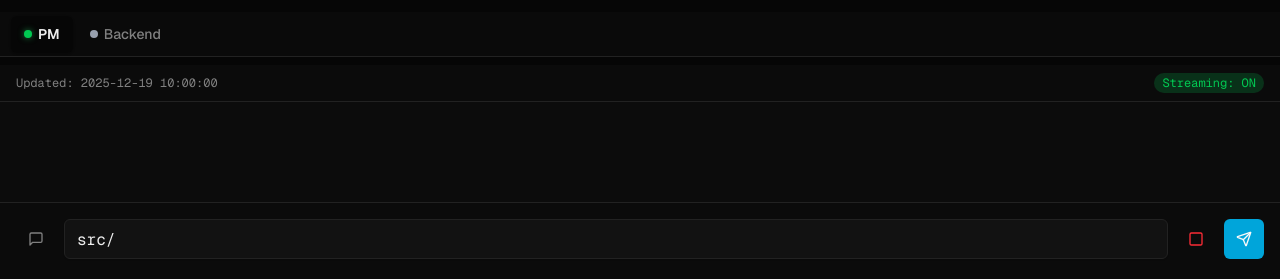
Scenario: TerminalPanel › Path API Integration (Terminal Mode) › should show loading indicator while fetching paths
# Switch to Terminal mode
Click the button named "Switch to Terminal mode" at (36, 239), box [16,219,56,259]
Wait 250 ms
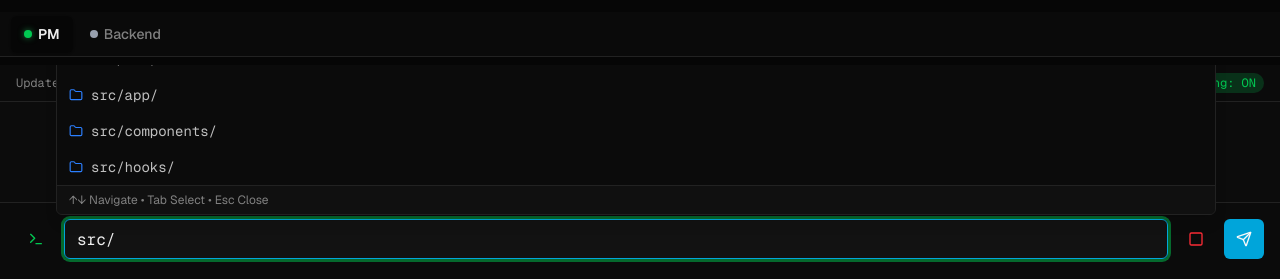
Expected: the list with test id "path-loading" is shown, [56,65,1216,215]
